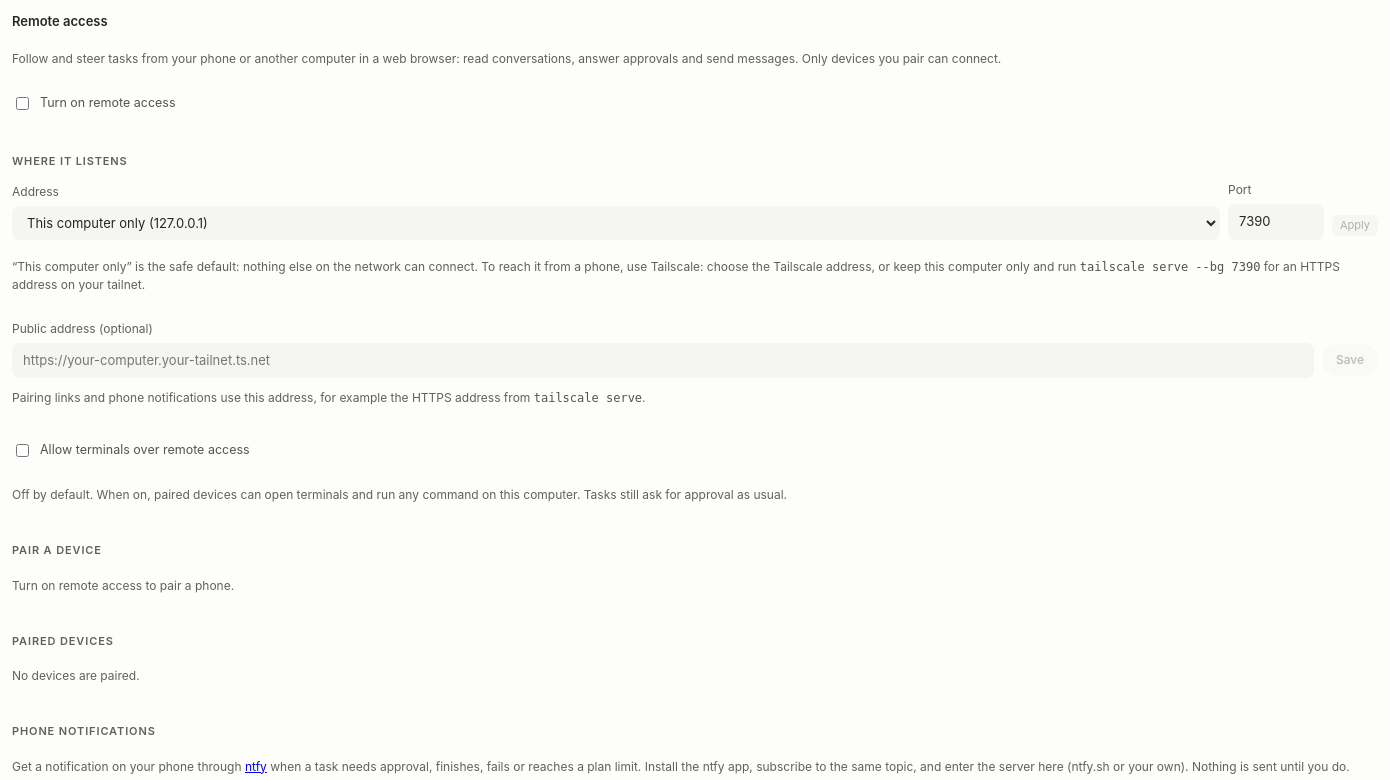
Scenario: is off by default and turns on through the API
Expected: the text "Turn on remote access to pair a phone." is shown, [12, 578, 234, 592]
Expected: the checkbox labelled "Allow terminals over remote access" is not checked, [16, 444, 29, 457]
Click the checkbox labelled "Turn on remote access". click: (22, 103)
box: [16, 96, 29, 110]
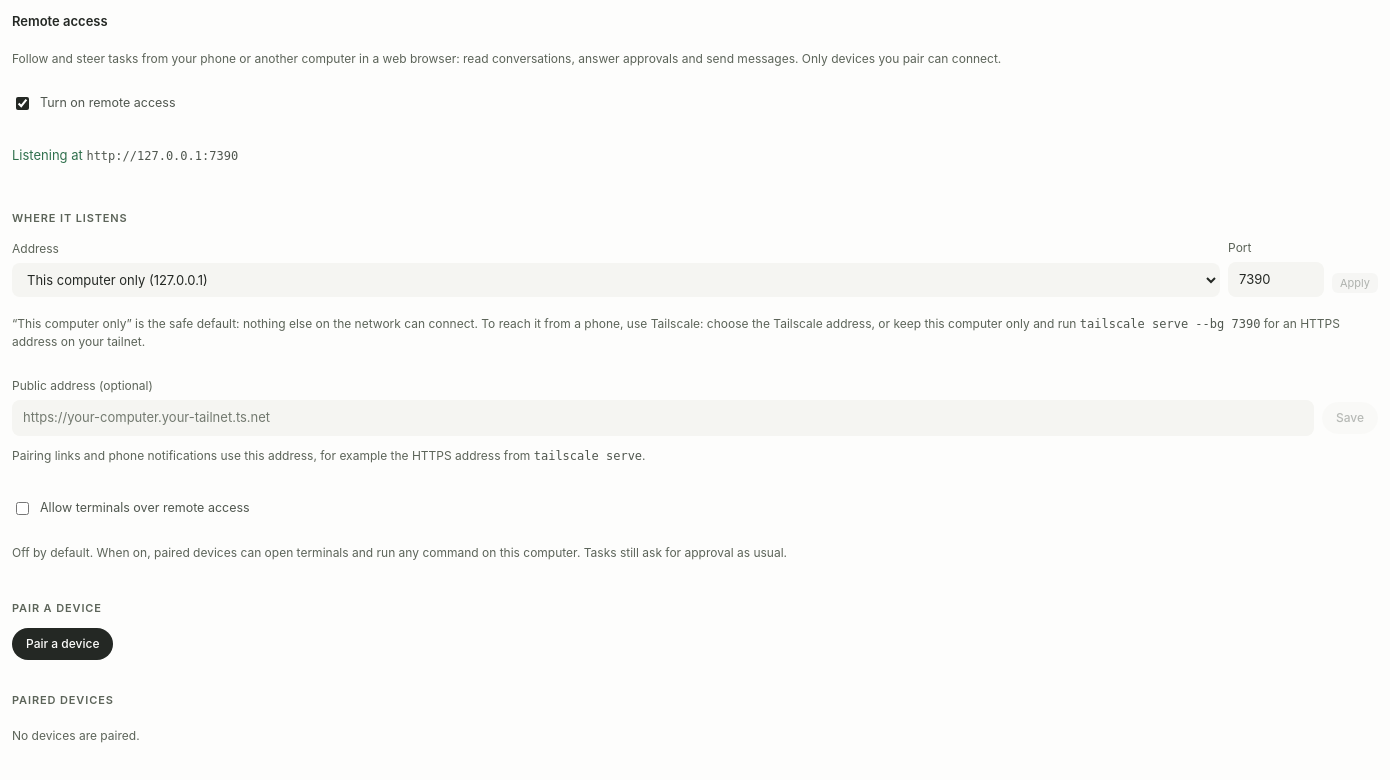
Result: the text "http://127.0.0.1:7390" is shown at [86, 148, 238, 162]
